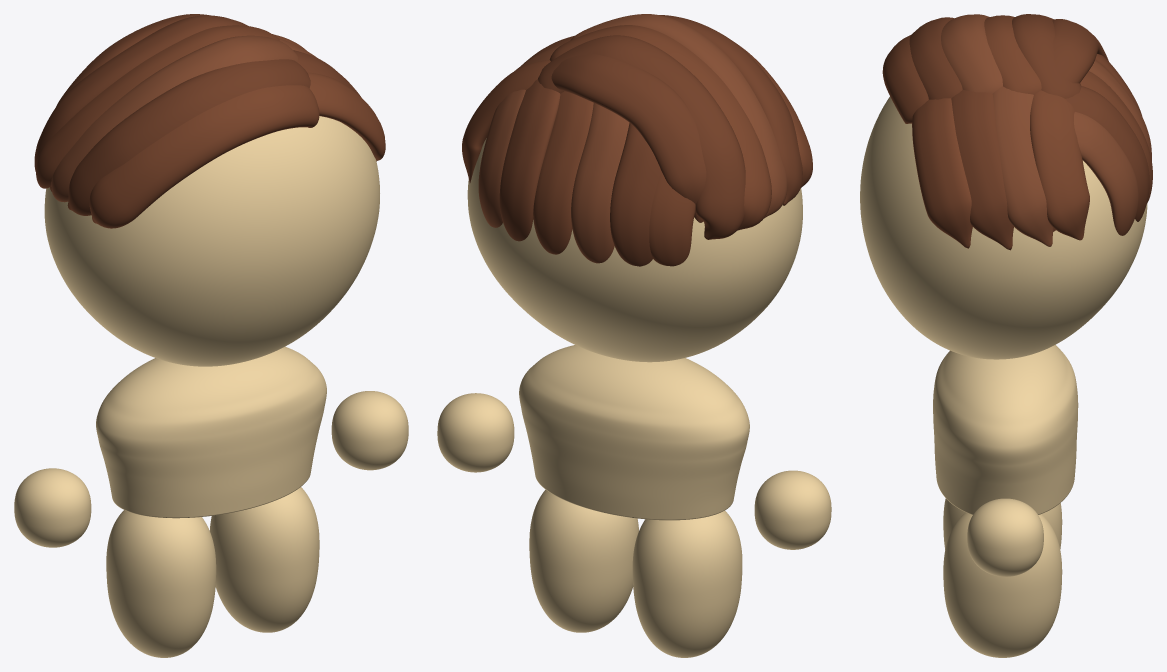
The model's file is Masculine-hair.glb.
3 renders of one model, left to right at view 1: azimuth 30°, elevation 25°; view 2: azimuth 150°, elevation 25°; view 3: azimuth 270°, elevation 25°, orthographic.
Visible parts, largest first — view 1: Skin / soft oval head, Skin / rounded torso, Skin / leg blob -1, Skin / leg blob 1, Hair / Side part main 0, Hair / Side part main 1, Hair / Side part main 2, Skin / orb hand -1, Skin / orb hand 1, Hair / Side part main 3, Hair / Side part main 4, Hair / Side part short 0 (+2 smaller); view 2: Skin / rounded torso, Skin / soft oval head, Skin / leg blob -1, Skin / leg blob 1, Hair / Side part crown, Hair / Side part main 4, Hair / Side part nape 2, Hair / Side part main 3, Hair / Side part nape 3, Hair / Side part nape 4, Hair / Side part main 2, Skin / orb hand 1 (+7 smaller); view 3: Skin / soft oval head, Skin / rounded torso, Skin / leg blob 1, Hair / Side part short 3, Hair / Side part short 0, Hair / Side part short 1, Hair / Side part short 2, Skin / orb hand 1, Hair / Side part nape 5, Hair / Side part main 2, Hair / Side part nape 4, Hair / Side part main 4 (+7 smaller).
Boxes of the visible parts, box(x1,y1,x2,y2) form: Skin / soft oval head: box(44, 116, 379, 366); Skin / rounded torso: box(96, 346, 326, 518); Skin / leg blob -1: box(106, 510, 216, 657); Skin / leg blob 1: box(209, 487, 319, 632); Hair / Side part main 0: box(89, 85, 319, 228); Hair / Side part main 1: box(67, 59, 310, 215); Hair / Side part main 2: box(51, 35, 298, 202); Skin / orb hand -1: box(14, 468, 91, 547); Skin / orb hand 1: box(331, 391, 408, 470); Hair / Side part main 3: box(35, 25, 279, 188); Hair / Side part main 4: box(34, 15, 247, 170); Hair / Side part short 0: box(307, 72, 385, 161); Skin / rounded torso: box(519, 345, 749, 520); Skin / soft oval head: box(467, 138, 802, 362); Skin / leg blob -1: box(632, 510, 742, 657); Skin / leg blob 1: box(529, 489, 638, 632); Hair / Side part crown: box(551, 54, 706, 222); Hair / Side part main 4: box(538, 35, 745, 239); Hair / Side part nape 2: box(571, 103, 629, 263); Hair / Side part main 3: box(549, 25, 771, 230); Hair / Side part nape 3: box(533, 91, 593, 254); Hair / Side part nape 4: box(499, 79, 560, 241); Hair / Side part main 2: box(570, 14, 787, 218); Skin / orb hand 1: box(437, 393, 514, 472); Skin / soft oval head: box(860, 96, 1147, 359); Skin / rounded torso: box(933, 345, 1078, 514); Skin / leg blob 1: box(943, 512, 1062, 657); Hair / Side part short 3: box(1030, 90, 1089, 240); Hair / Side part short 0: box(912, 98, 972, 248); Hair / Side part short 1: box(951, 89, 1013, 250); Hair / Side part short 2: box(992, 86, 1053, 246); Skin / orb hand 1: box(967, 498, 1043, 576); Hair / Side part nape 5: box(1074, 112, 1138, 235); Hair / Side part main 2: box(941, 14, 1002, 93); Hair / Side part nape 4: box(1065, 86, 1149, 221); Hair / Side part main 4: box(1012, 14, 1081, 98).
Bounding box in the file's own units: 1.23 × 1.87 × 0.825.
